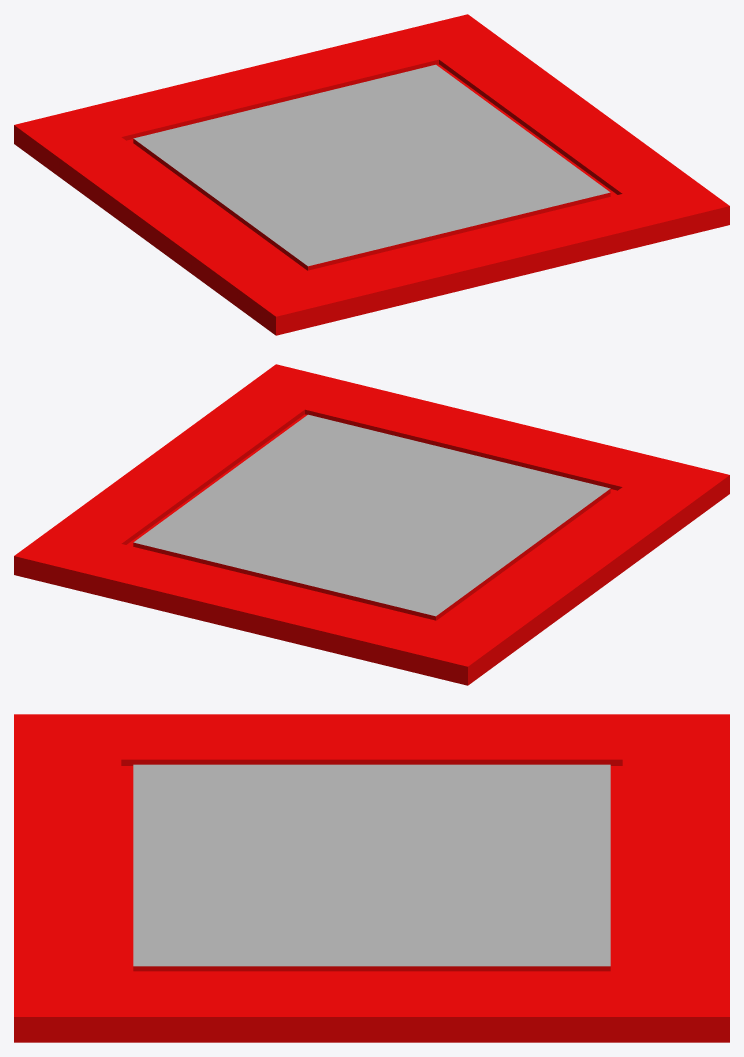
3 views of the same model, one above another, from view 1: azimuth 30°, elevation 25°; view 2: azimuth 150°, elevation 25°; view 3: azimuth 270°, elevation 25° (orthographic). The views are drawn at different scales.
Parts seen in each view (by area): view 1: base; view 2: base; view 3: base.
Part boxes in pixels (x1=…): base: x1=14, y1=14, x2=729, y2=335; base: x1=14, y1=364, x2=729, y2=685; base: x1=14, y1=714, x2=729, y2=1042.
Bounding box in the file's own units: 1.2 × 0.0479 × 1.2.
